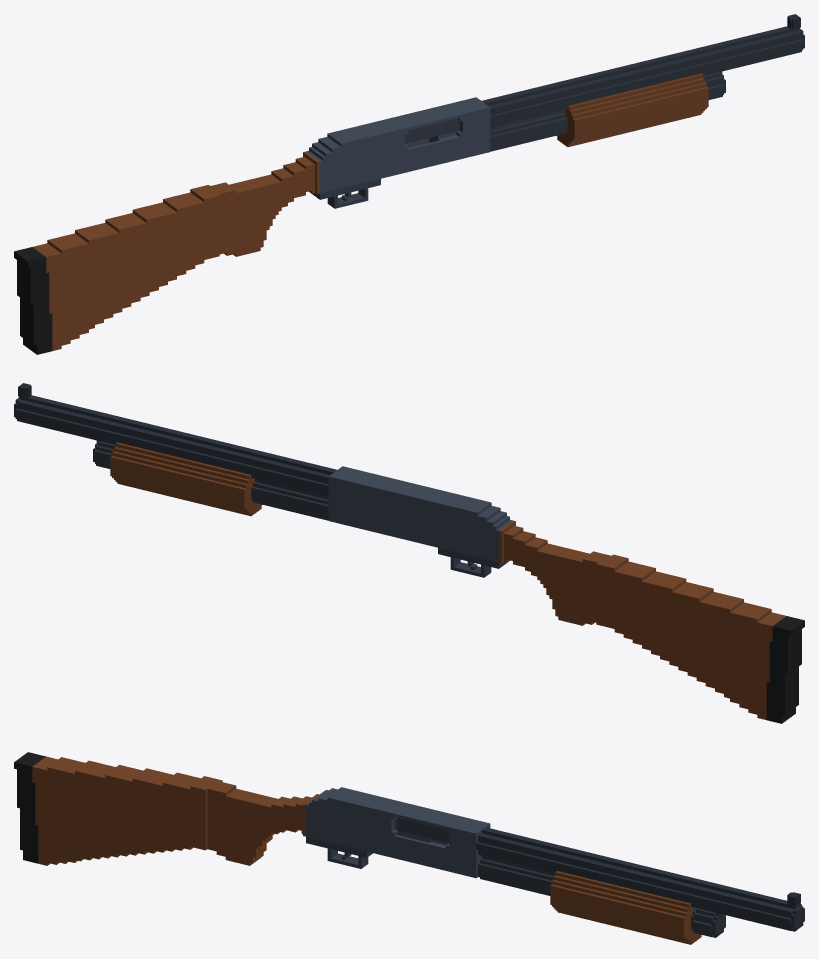
The model's file is shotgun_pump.glb.
3 views of the same model, one above another, from view 1: azimuth 30°, elevation 25°; view 2: azimuth 150°, elevation 25°; view 3: azimuth 330°, elevation 25° (orthographic).
Parts seen in each view (by area): view 1: stock:stock, receiver:receiver, barrel:barrel, forend:forend, tube:tube-magazine, bolt-carrier:bolt-carrier, lower:lower; view 2: stock:stock, receiver:receiver, barrel:barrel, forend:forend, tube:tube-magazine, lower:lower; view 3: stock:stock, receiver:receiver, barrel:barrel, forend:forend, tube:tube-magazine, bolt-carrier:bolt-carrier, lower:lower.
Boxes of the visible parts, left/top/right/bottom form: stock:stock: left=14, top=151, right=319, bottom=354; receiver:receiver: left=306, top=97, right=490, bottom=193; barrel:barrel: left=482, top=26, right=804, bottom=127; forend:forend: left=556, top=73, right=708, bottom=147; tube:tube-magazine: left=490, top=71, right=725, bottom=151; bolt-carrier:bolt-carrier: left=405, top=110, right=564, bottom=143; lower:lower: left=309, top=179, right=380, bottom=208; stock:stock: left=499, top=520, right=804, bottom=723; receiver:receiver: left=328, top=466, right=512, bottom=562; barrel:barrel: left=14, top=395, right=336, bottom=496; forend:forend: left=110, top=442, right=262, bottom=516; tube:tube-magazine: left=93, top=440, right=328, bottom=520; lower:lower: left=438, top=548, right=509, bottom=577; stock:stock: left=14, top=752, right=319, bottom=865; receiver:receiver: left=306, top=787, right=490, bottom=878; barrel:barrel: left=476, top=827, right=804, bottom=931; forend:forend: left=550, top=871, right=701, bottom=944; tube:tube-magazine: left=478, top=858, right=725, bottom=937; bolt-carrier:bolt-carrier: left=397, top=818, right=555, bottom=875; lower:lower: left=306, top=837, right=372, bottom=868.
Bounding box in the file's own units: 1.02 × 0.184 × 0.056.
